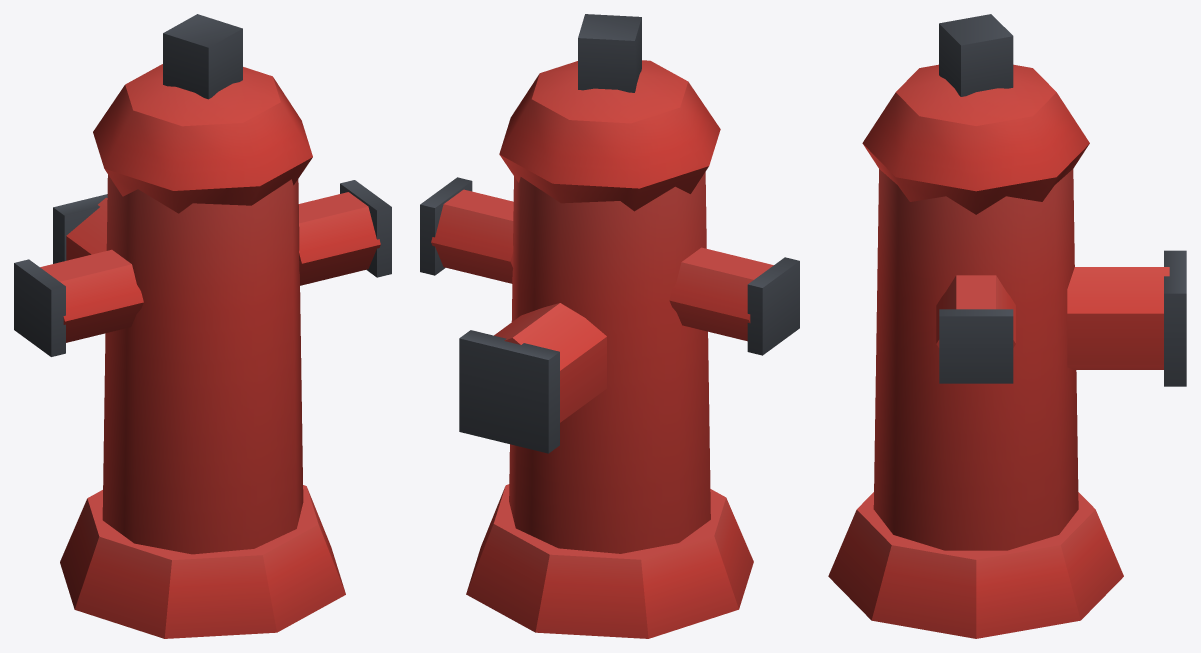
File: dt_fire_hydrant.fbx
The picture shows the model from 3 angles, left to right: view 1: azimuth 30°, elevation 25°; view 2: azimuth 150°, elevation 25°; view 3: azimuth 270°, elevation 25°; orthographic projection.
Visible parts, largest first — view 1: dt_fire_hydrant; view 2: dt_fire_hydrant; view 3: dt_fire_hydrant.
Part boxes in pixels (left/top/right/bottom): dt_fire_hydrant: left=14, top=14, right=391, bottom=638; dt_fire_hydrant: left=420, top=14, right=799, bottom=638; dt_fire_hydrant: left=828, top=14, right=1186, bottom=638.
Size of the model in its own units: 156 by 240 by 143.
